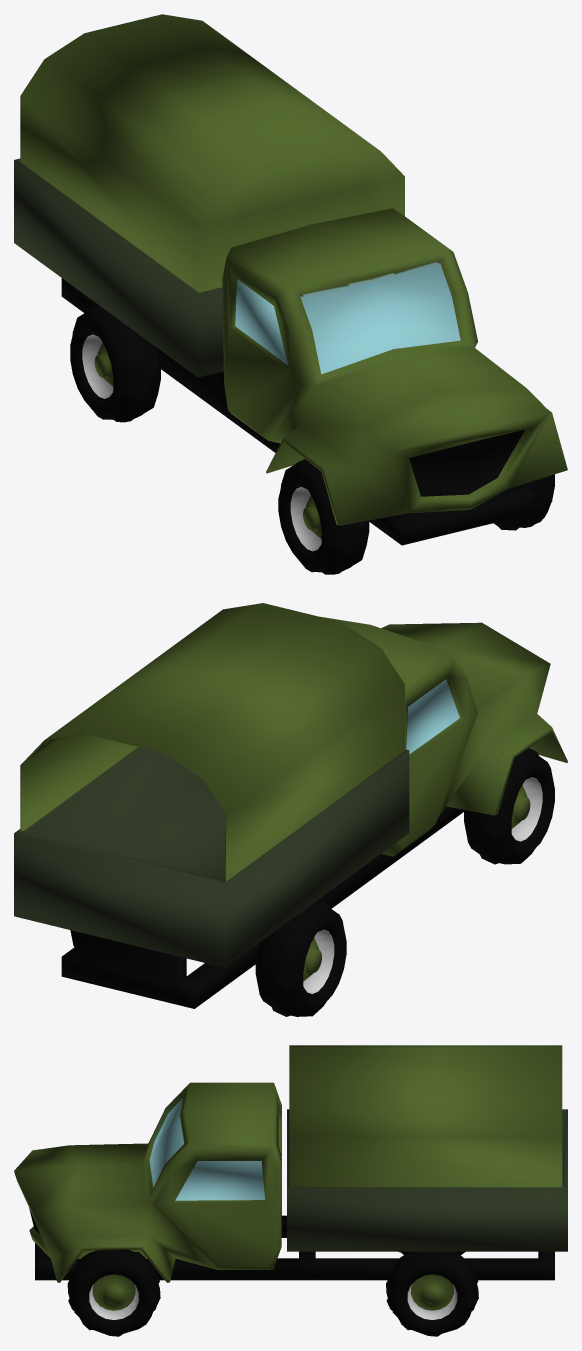
File: Gruzowik.fbx
3 views of the same model, one above another, from view 1: azimuth 30°, elevation 25°; view 2: azimuth 150°, elevation 25°; view 3: azimuth 270°, elevation 25° (orthographic). The views are drawn at different scales.
Parts seen in each view (by area): view 1: Kabina, K3, K2, K1; view 2: Kabina, K3, K2; view 3: Kabina, K1, K3.2.
Part boxes in pixels (x1,y1,x2,y2): Kabina: (14,14,567,545); K3: (70,305,160,422); K2: (278,459,369,574); K1: (493,474,554,530); Kabina: (14,603,567,1008); K3: (255,899,346,1016); K2: (464,748,554,864); Kabina: (14,1045,567,1282); K1: (67,1249,160,1336); K3.2: (386,1251,478,1336).
Bounding box in the file's own units: 123 × 156 × 330.
2 materials, 2 textured.
